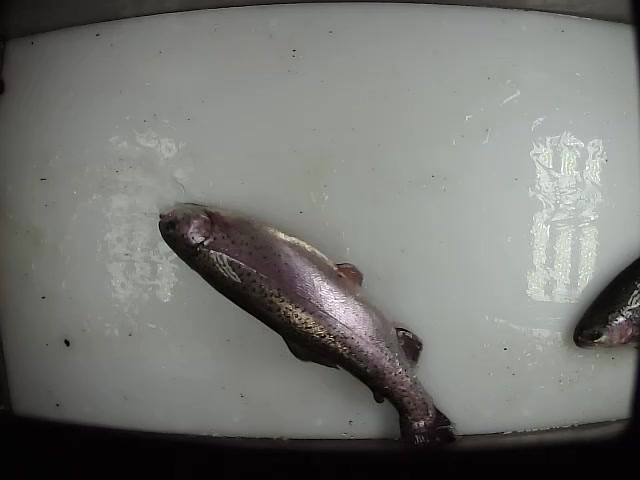fish: (156, 200, 461, 452), (570, 253, 640, 353)
